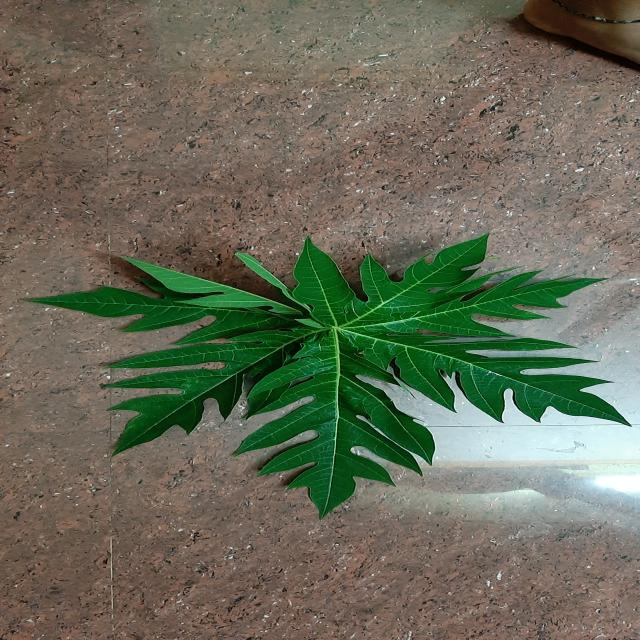papaya: (33, 236, 626, 515)
